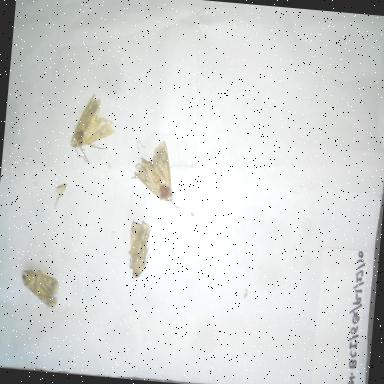abw: (66, 88, 127, 170), (127, 136, 187, 214), (13, 262, 67, 314), (120, 217, 156, 284)
